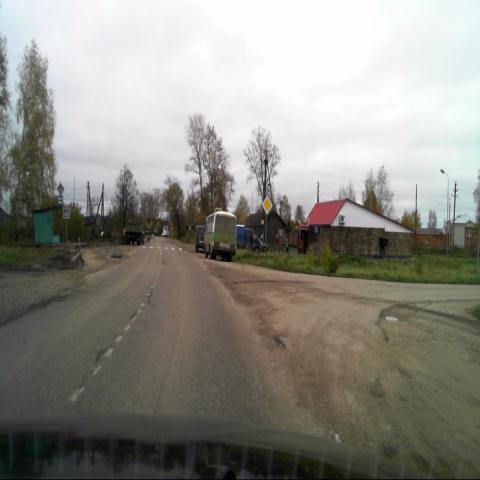2_1: (262, 195, 272, 214)
